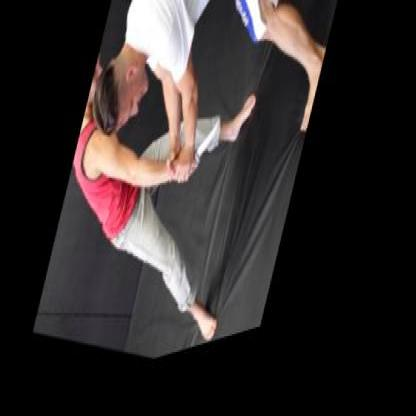knife: (185, 114, 228, 210)
